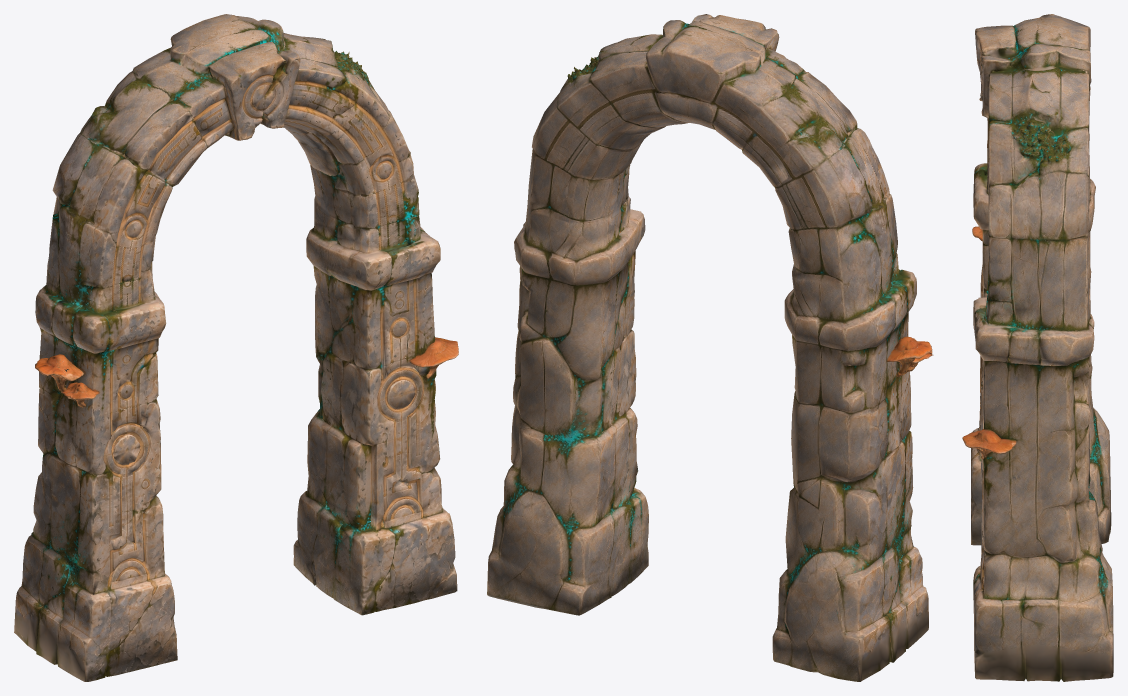
Rendered from citadel_arch.fbx.
The picture shows the model from 3 angles, left to right: view 1: azimuth 30°, elevation 25°; view 2: azimuth 150°, elevation 25°; view 3: azimuth 270°, elevation 25°; orthographic projection. The views are drawn at different scales.
Parts seen in each view (by area): view 1: citadel_arch; view 2: citadel_arch; view 3: citadel_arch.
Part boxes in pixels (x1,y1,x2,y2): citadel_arch: [14, 14, 458, 681]; citadel_arch: [487, 14, 933, 681]; citadel_arch: [962, 14, 1113, 681].
Size of the model in its own units: 9.49 by 13 by 3.17.
